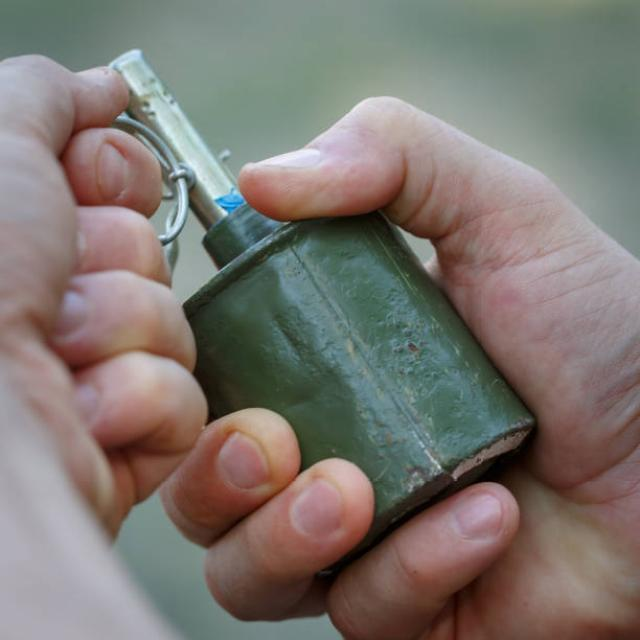grenade: (106, 49, 551, 530)
